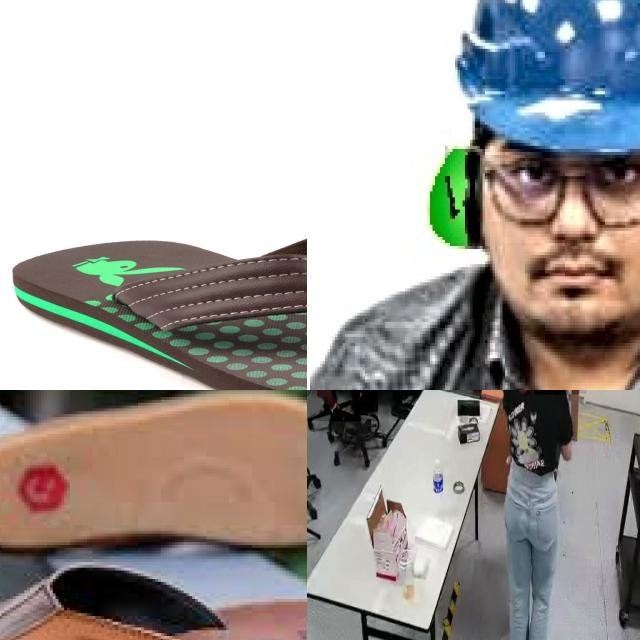Ear-protection: (407, 135, 640, 261)
Sandals: (0, 390, 307, 640), (10, 226, 307, 387)
head_helmet: (424, 0, 640, 156)
person: (486, 390, 578, 640)
